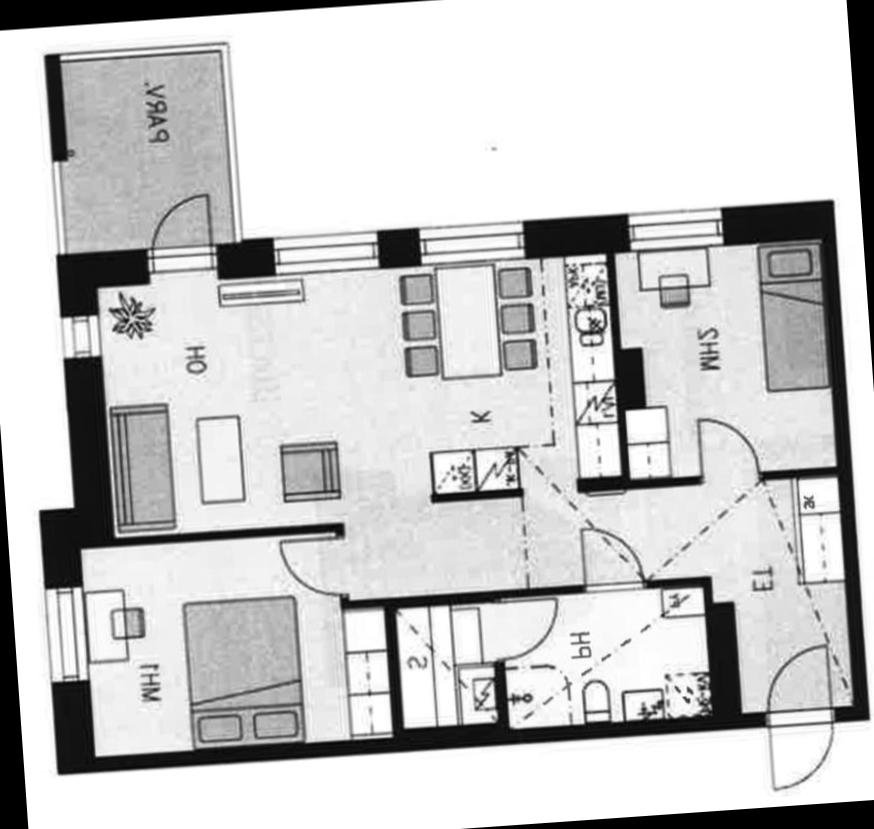door: (143, 184, 220, 280), (762, 705, 840, 794), (761, 640, 836, 725), (483, 592, 565, 666), (274, 526, 350, 603), (692, 409, 763, 486), (578, 522, 648, 591)
window: (405, 214, 536, 271), (262, 226, 388, 280), (620, 201, 735, 254), (40, 578, 92, 694), (54, 296, 106, 359)
